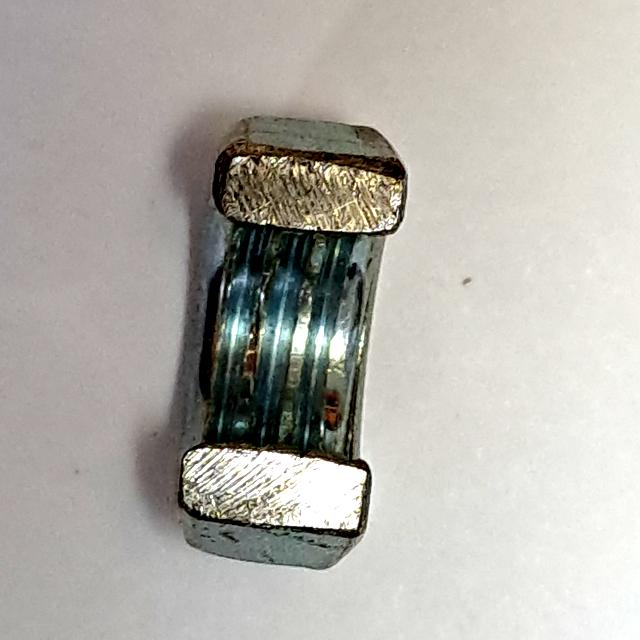Side-Fracture: (158, 106, 424, 587)
